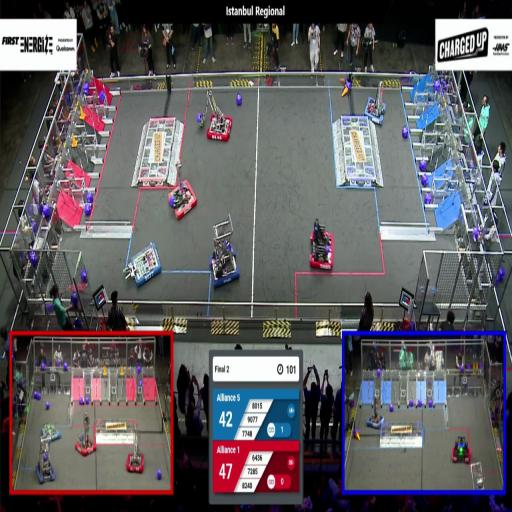robot: (204, 214, 243, 290), (164, 159, 201, 221), (196, 86, 233, 144), (124, 240, 162, 288), (308, 218, 335, 274), (364, 80, 388, 128), (33, 438, 58, 483), (74, 412, 98, 458), (366, 394, 386, 431), (451, 435, 472, 465), (39, 420, 61, 444)
